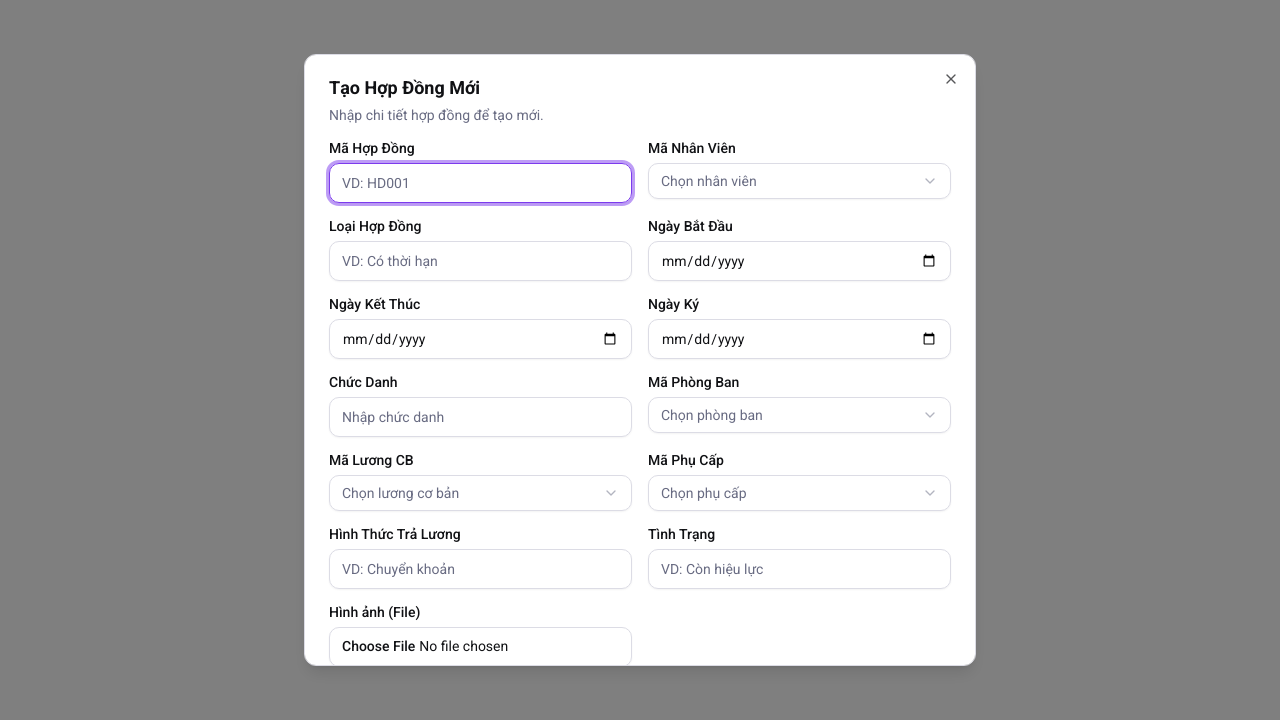
it: CreateContractDialog › shows validation error for duplicate MaHopDong
In the field labelled "Mã Hợp Đồng": (480, 183) [329,163,632,203], type "HD001"
(page scrolled)
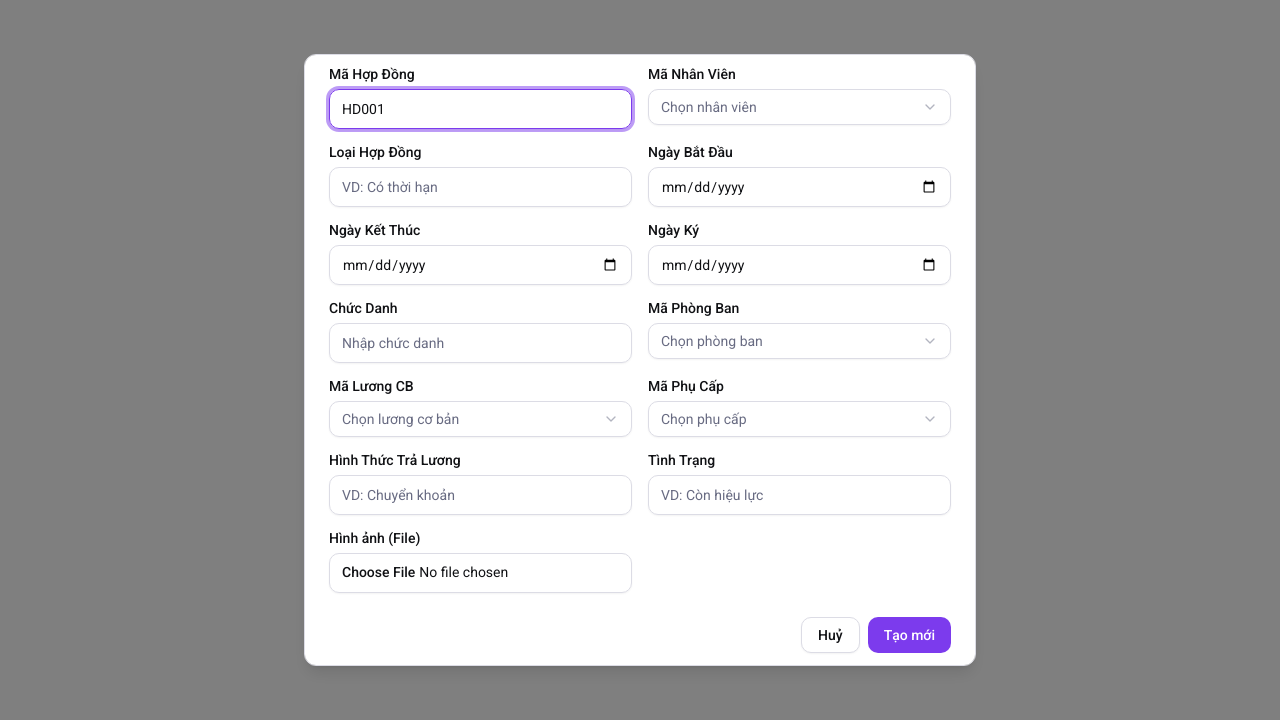
Submit the form, box [329,67,951,653]
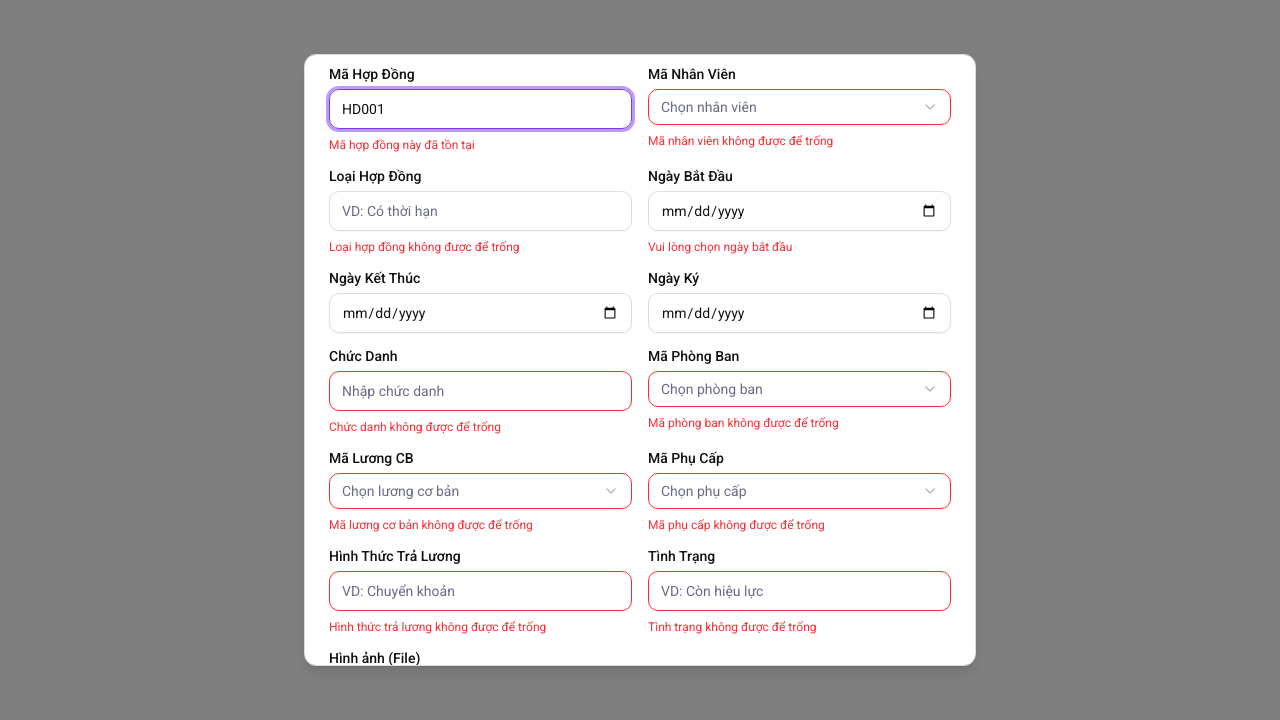
Expected: the text "Mã hợp đồng này đã tồn tại" is shown, [329,138,475,152]
